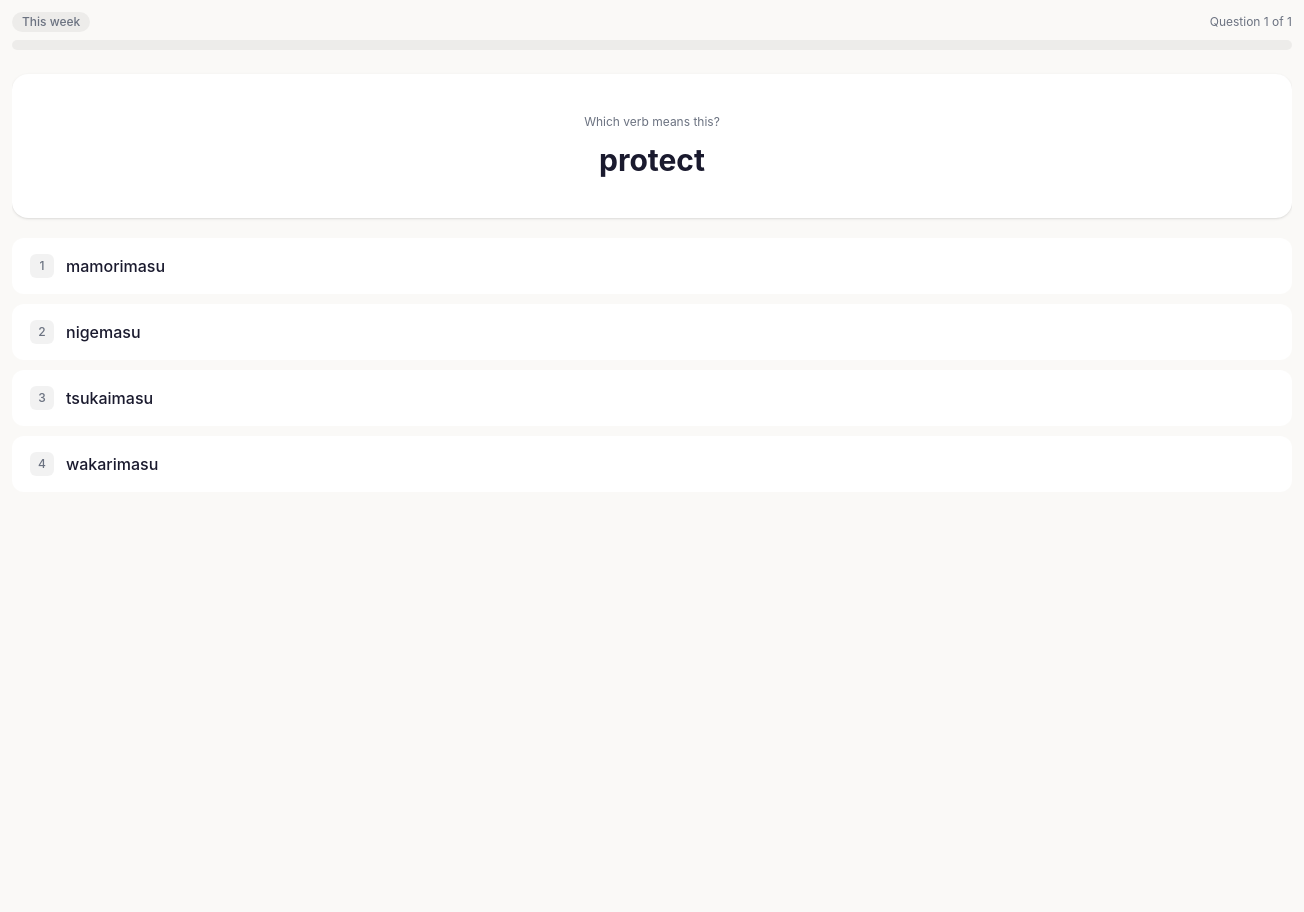
Test: answering › marks a wrong answer with words, not just colour
Step 1. Click the button "2 nigemasu" → [103, 332], box [12,304,1292,360]
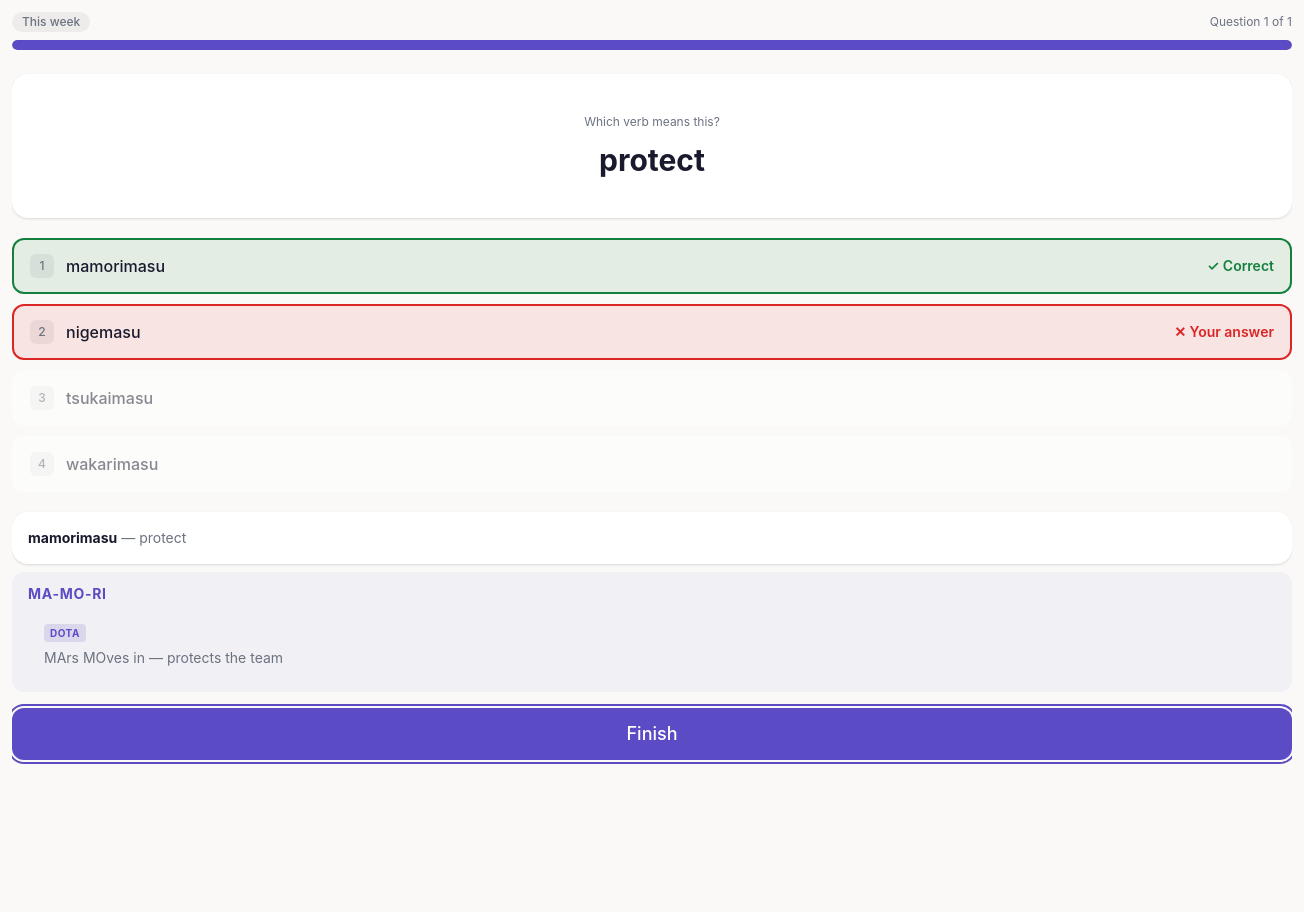
Now the text "✕ Your answer" is shown, box [1174,322,1274,342]
Now the text "✓ Correct" is shown, box [1207,256,1274,276]
